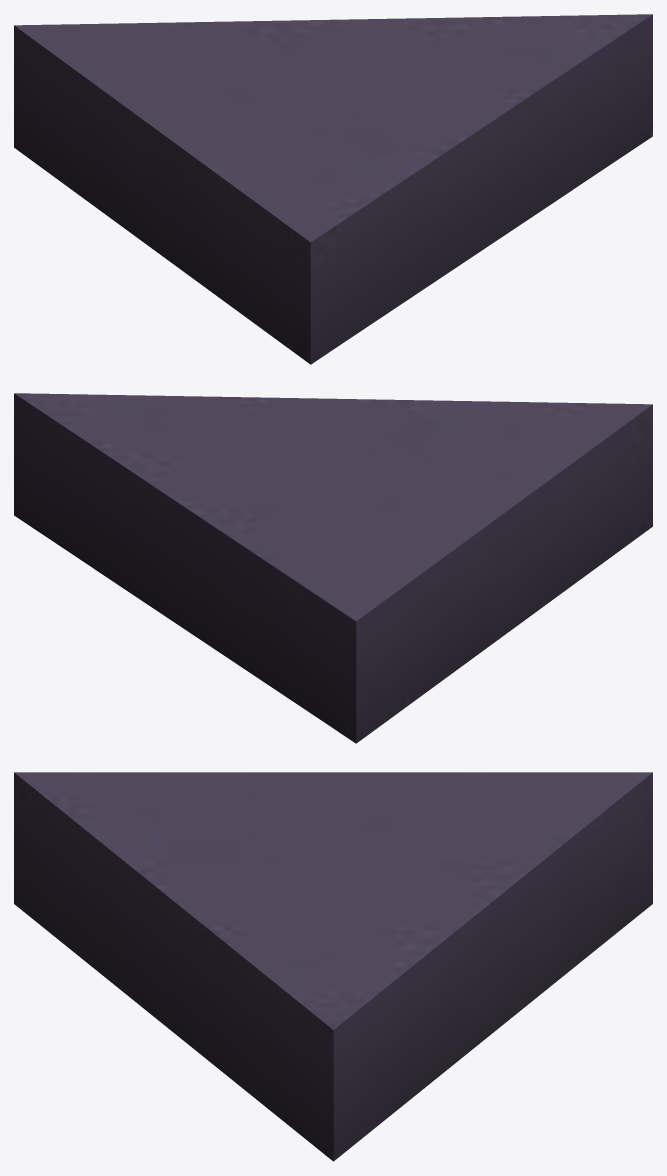
File: tungsten-carbide.glb
3 renders of one model, top to bottom at view 1: azimuth 30°, elevation 25°; view 2: azimuth 150°, elevation 25°; view 3: azimuth 270°, elevation 25°, orthographic. The views are drawn at different scales.
Visible parts, largest first — view 1: tungsten-carbide; view 2: tungsten-carbide; view 3: tungsten-carbide.
Boxes of the visible parts, x1,y1,x2,y2 form: tungsten-carbide: (14,14,652,364); tungsten-carbide: (14,393,652,743); tungsten-carbide: (14,772,652,1161).
Bounding box in the file's own units: 0.21 × 0.05 × 0.22.
Materials: 1 (1 with a texture image).
